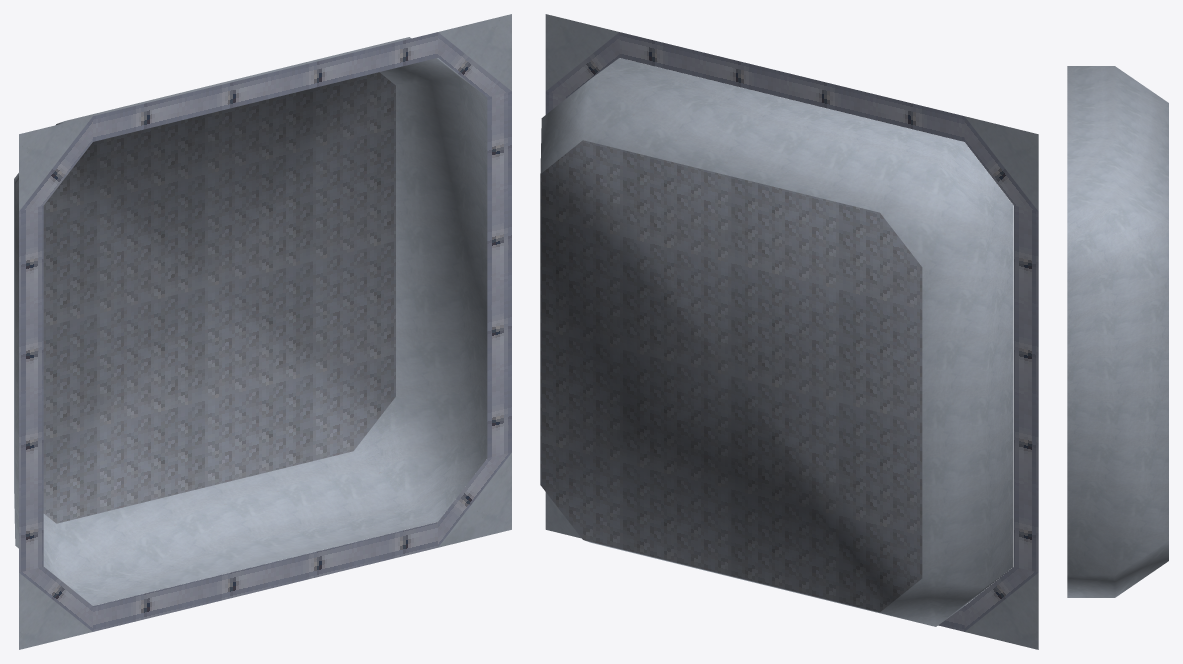
The model's file is cap.dae.
3 renders of one model, left to right at view 1: azimuth 30°, elevation 25°; view 2: azimuth 150°, elevation 25°; view 3: azimuth 270°, elevation 25°, orthographic. The views are drawn at different scales.
Parts seen in each view (by area): view 1: rim; view 2: rim; view 3: rim.
Part boxes in pixels (box(x1,y1,x2,y2)): rim: box(14, 14, 511, 649); rim: box(540, 14, 1038, 649); rim: box(1067, 66, 1168, 597).
Size of the model in its own units: 80 by 17.03 by 80.
Materials: 3 (3 with a texture image).
